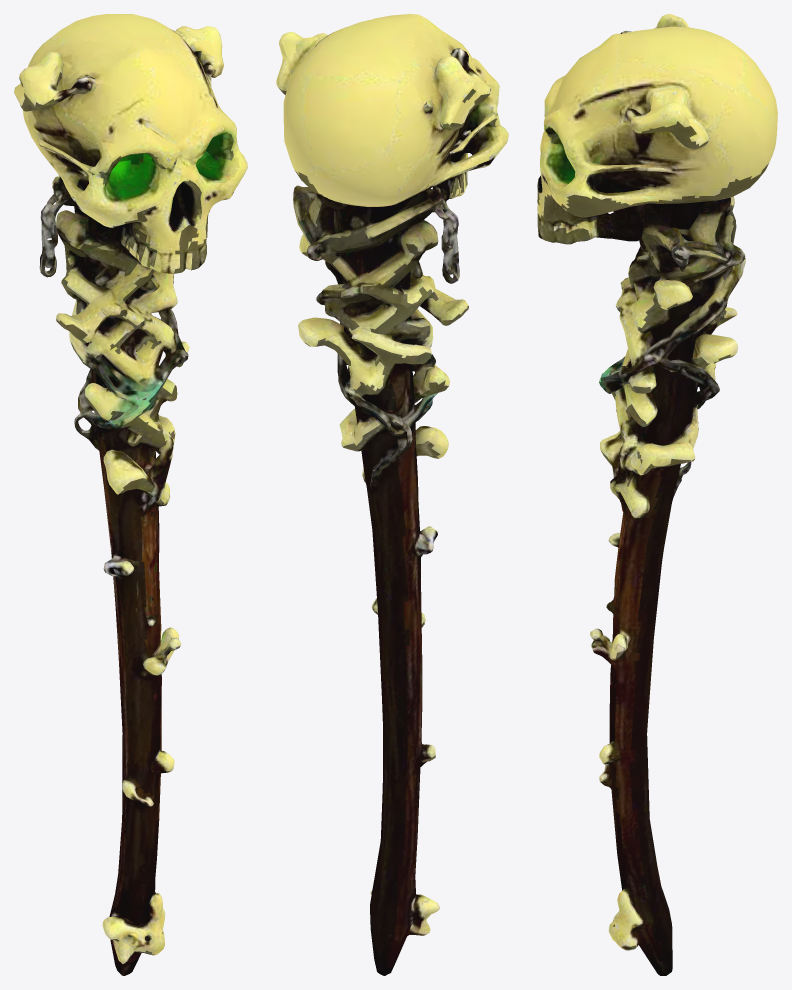
The model's file is necromante-arma.glb.
The picture shows the model from 3 angles, left to right: view 1: azimuth 30°, elevation 25°; view 2: azimuth 150°, elevation 25°; view 3: azimuth 270°, elevation 25°; orthographic projection.
Visible parts, largest first — view 1: tripo_node_bdee0e98-fef7-4320-9c04-e895bf5e846c; view 2: tripo_node_bdee0e98-fef7-4320-9c04-e895bf5e846c; view 3: tripo_node_bdee0e98-fef7-4320-9c04-e895bf5e846c.
Boxes of the visible parts, x1,y1,x2,y2 form: tripo_node_bdee0e98-fef7-4320-9c04-e895bf5e846c: [14, 14, 247, 975]; tripo_node_bdee0e98-fef7-4320-9c04-e895bf5e846c: [276, 14, 508, 975]; tripo_node_bdee0e98-fef7-4320-9c04-e895bf5e846c: [537, 14, 777, 975].
Size of the model in its own units: 0.2133 by 0.9775 by 0.2273.
1 material, 1 textured.
